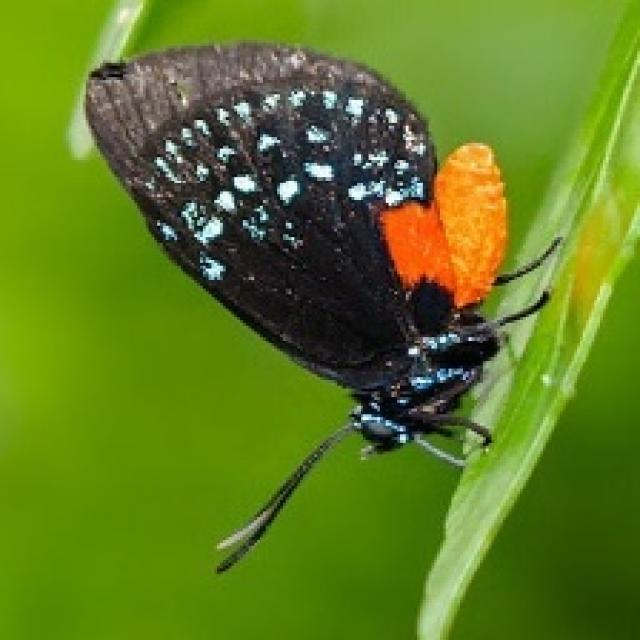butterfly: (80, 34, 563, 574)
